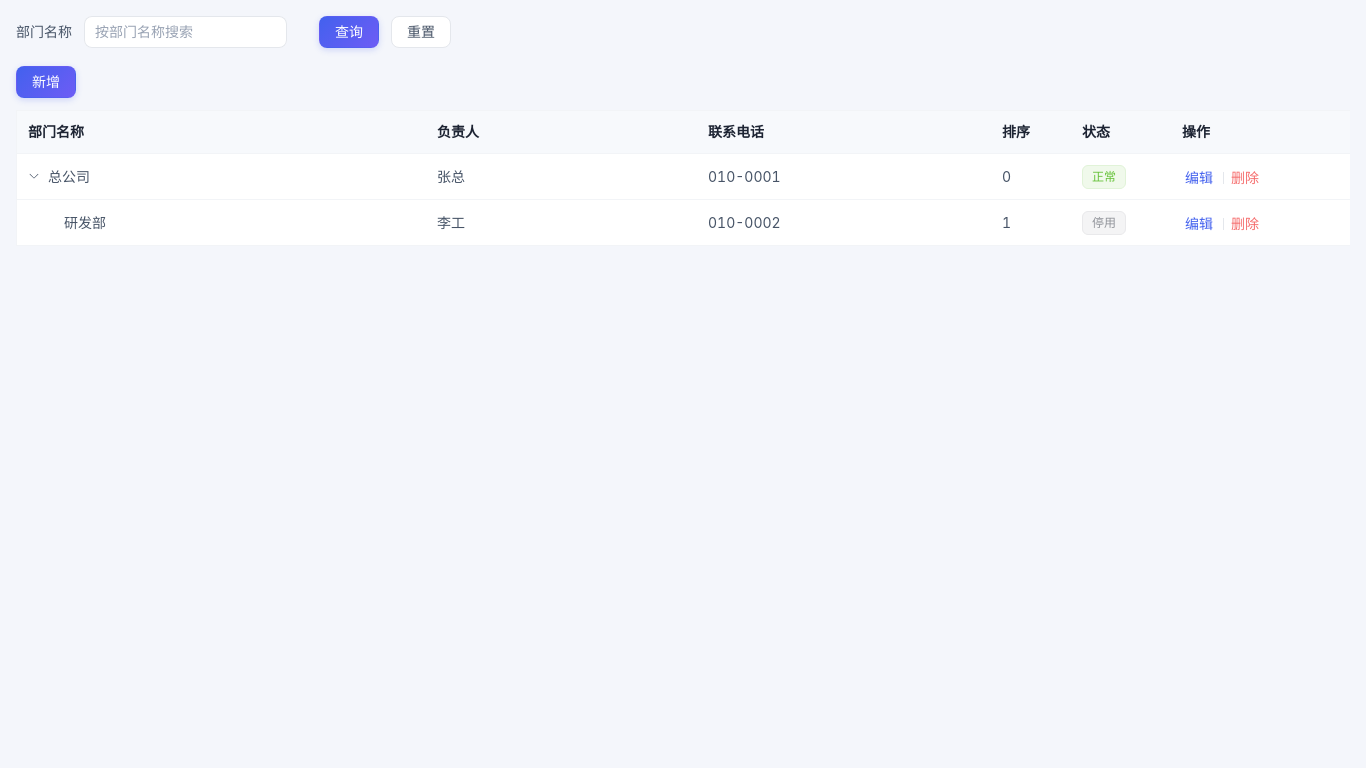
Test: 部门管理页 › 点新增 → 打开表单对话框
Click the button "新增" at x=46, y=82, box x1=16 y1=66 x2=76 y2=98
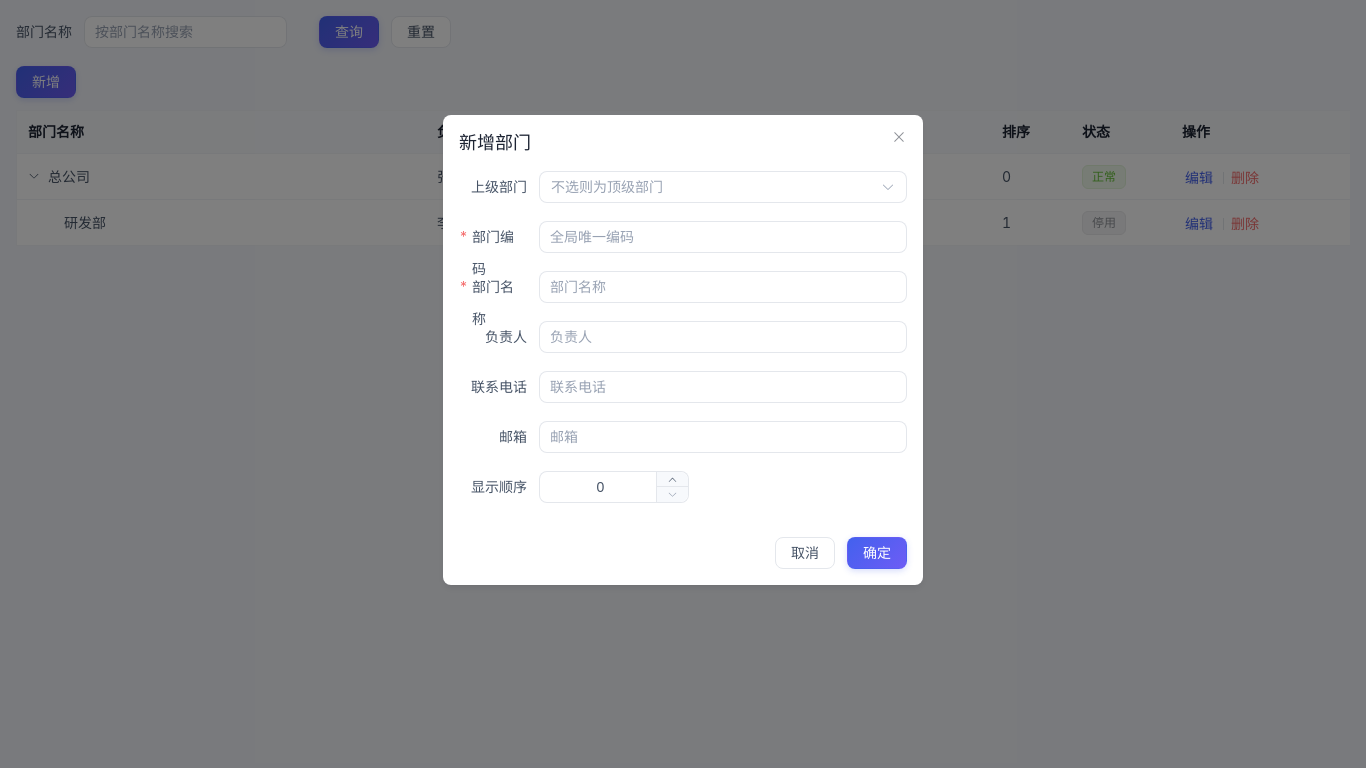
Expected: the text "新增部门" is shown, x1=459 y1=132 x2=531 y2=153
